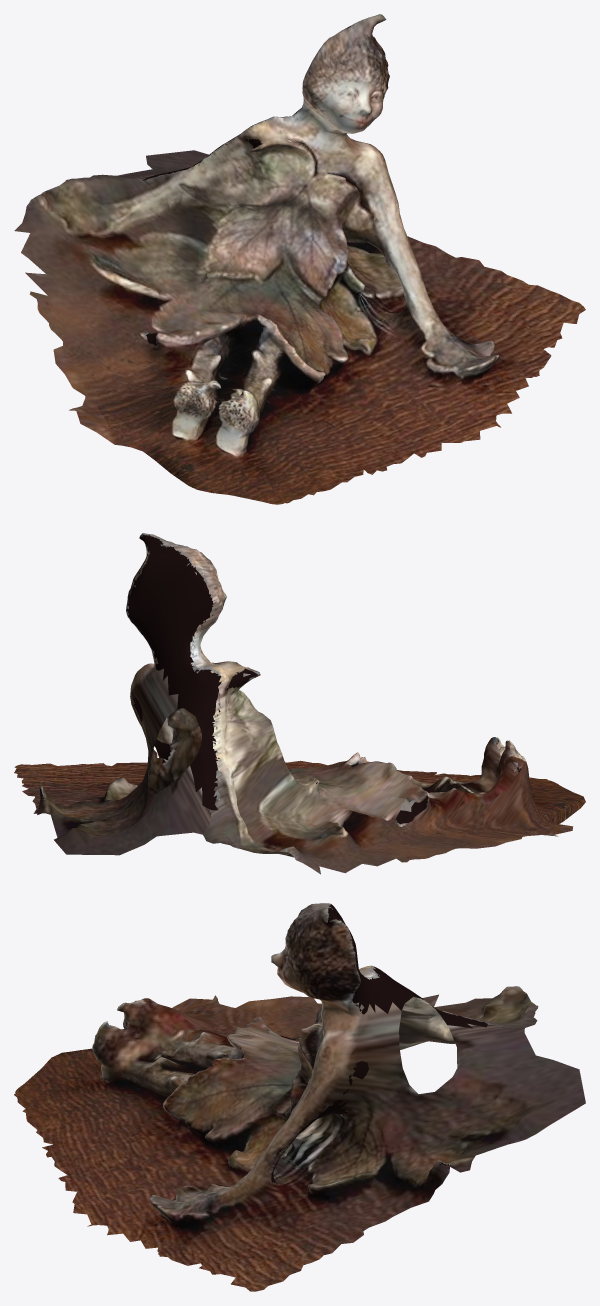
File: takkeWijfie.obj
3 renders of one model, top to bottom at view 1: azimuth 30°, elevation 25°; view 2: azimuth 150°, elevation 25°; view 3: azimuth 270°, elevation 25°, orthographic. The views are drawn at different scales.
Visible parts, largest first — view 1: takkeWijfie; view 2: takkeWijfie; view 3: takkeWijfie.
Part boxes in pixels (left/top/right/bottom): takkeWijfie: left=14, top=14, right=585, bottom=504; takkeWijfie: left=14, top=533, right=585, bottom=874; takkeWijfie: left=14, top=903, right=585, bottom=1291.
Bounding box in the file's own units: 17.67 × 10.13 × 16.75.
Materials: 2 (2 with a texture image).
